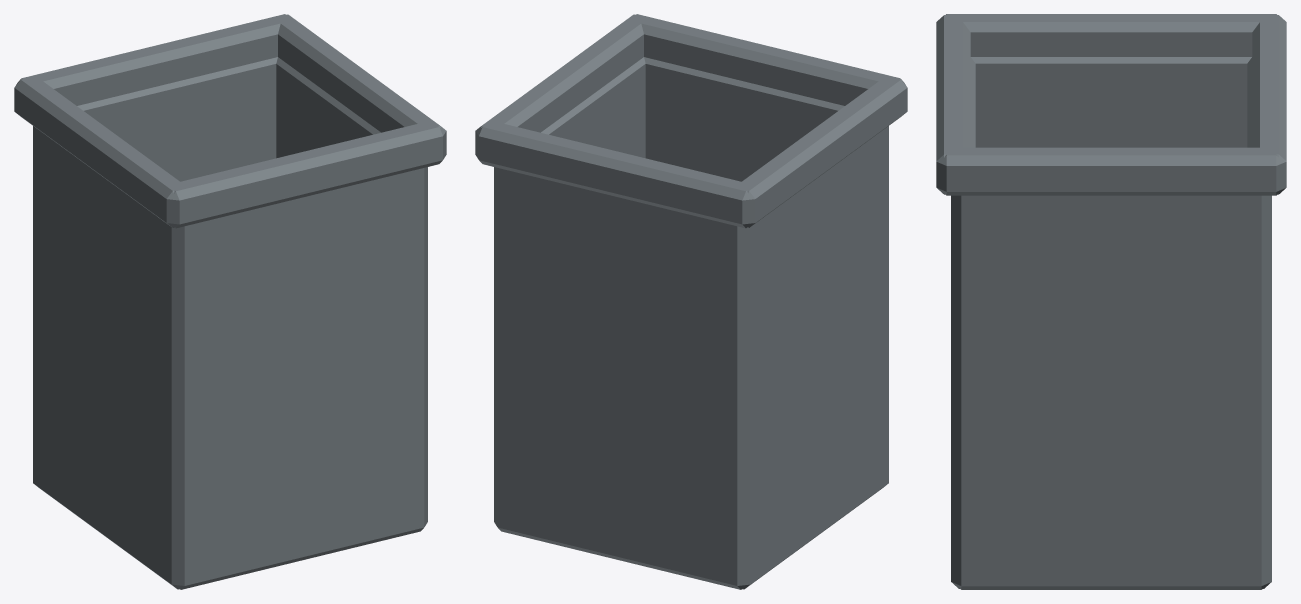
Rendered from WasteBin.fbx.
3 renders of one model, left to right at view 1: azimuth 30°, elevation 25°; view 2: azimuth 150°, elevation 25°; view 3: azimuth 270°, elevation 25°, orthographic. The views are drawn at different scales.
Parts seen in each view (by area): view 1: WasteBin; view 2: WasteBin; view 3: WasteBin.
Boxes of the visible parts, x1,y1,x2,y2 form: WasteBin: [14, 14, 446, 589]; WasteBin: [475, 14, 907, 589]; WasteBin: [936, 14, 1286, 589].
Bounding box in the file's own units: 35.5 × 49.25 × 35.5.
1 material, 1 textured.
